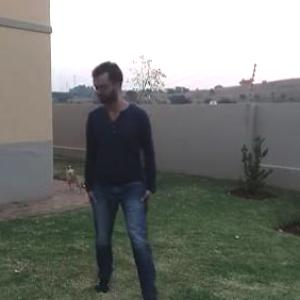follow: (80, 53, 169, 299)
